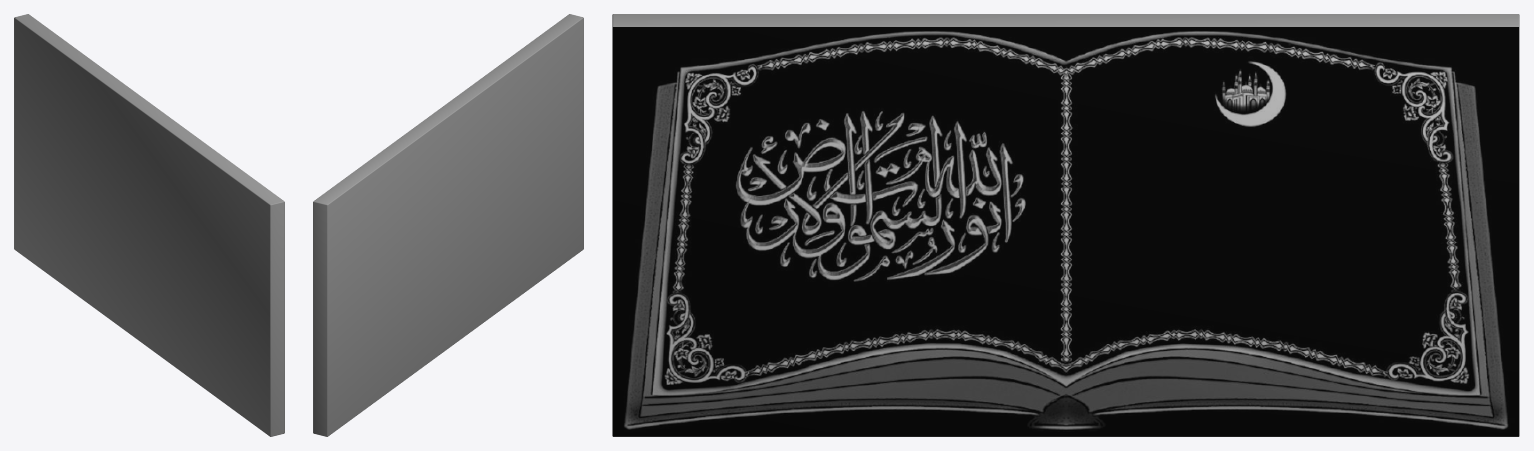
Rendered from kniga3.glb.
3 views of the same model, side by side, from view 1: azimuth 30°, elevation 25°; view 2: azimuth 150°, elevation 25°; view 3: azimuth 270°, elevation 25° (orthographic). The views are drawn at different scales.
Parts seen in each view (by area): view 1: Cube.008; view 2: Cube.008; view 3: Cube.008.
Part boxes in pixels (x1=…): Cube.008: x1=14, y1=14, x2=284, y2=436; Cube.008: x1=313, y1=14, x2=583, y2=436; Cube.008: x1=612, y1=14, x2=1519, y2=436.
Bounding box in the file's own units: 0.02 × 0.3 × 0.6.
Materials: 2 (1 with a texture image).
